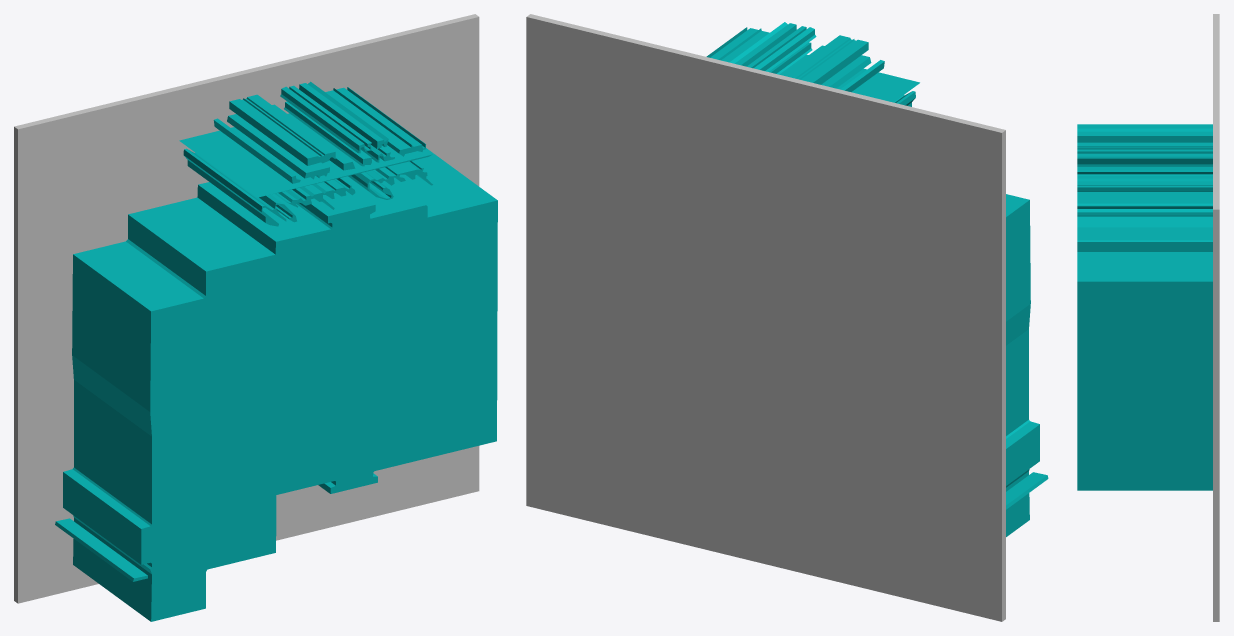
3 views of the same model, side by side, from view 1: azimuth 30°, elevation 25°; view 2: azimuth 150°, elevation 25°; view 3: azimuth 270°, elevation 25° (orthographic). The views are drawn at different scales.
Visible parts, largest first — view 1: world; view 2: world; view 3: world.
Part boxes in pixels (x1,y1,x2,y2): world: (14, 14, 497, 621); world: (526, 14, 1048, 621); world: (1077, 14, 1219, 621).
Bounding box in the file's own units: 10.23 × 10.05 × 3.15.
